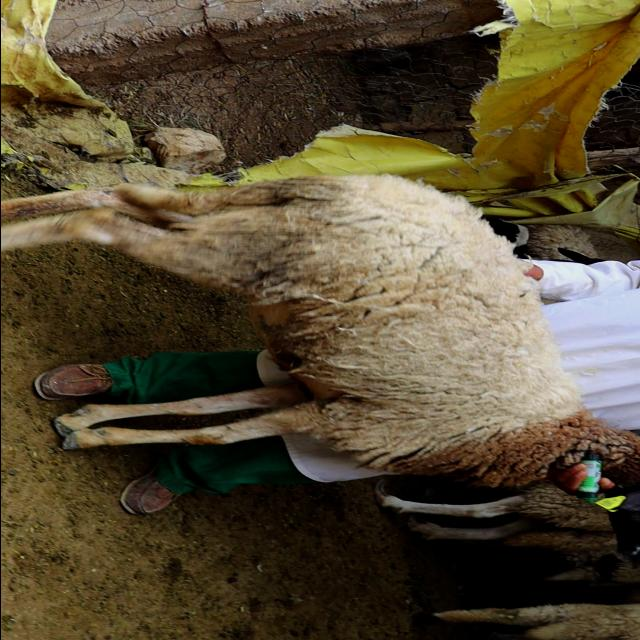Score_2: (1, 175, 640, 559)
